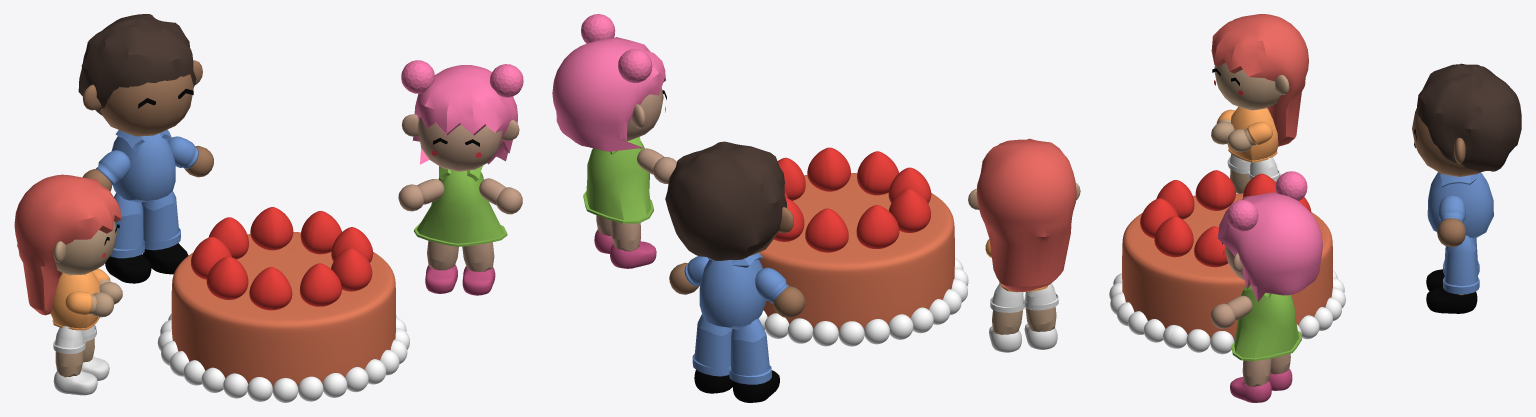
Rendered from cakewithanim1.glb.
3 renders of one model, left to right at view 1: azimuth 30°, elevation 25°; view 2: azimuth 150°, elevation 25°; view 3: azimuth 270°, elevation 25°, orthographic. The views are drawn at different scales.
Visible parts, largest first — view 1: cake, Sphere, Sphere.001, Sphere.004, Cube.023, Cube.056, Cube.055, Cube.051, Cube.032, Cube.062, Cube.044, Cube.035 (+15 smaller); view 2: cake, Sphere, Sphere.001, Sphere.004, Cube.023, Cube.051, Cube.055, Cube.001, Cube.062, Cube.045, Cube.040, Cube.026 (+7 smaller); view 3: cake, Sphere.001, Sphere.004, Sphere, Cube.023, Cube.055, Cube.044, Cube.051, Cube.035, Cube.056, Cube.062, Cube.061 (+8 smaller).
Boxes of the visible parts, box(x1,y1,x2,y2) form: cake: box(157, 207, 409, 402); Sphere: box(14, 174, 121, 315); Sphere.001: box(78, 14, 196, 115); Sphere.004: box(412, 65, 517, 164); Cube.023: box(414, 165, 507, 246); Cube.056: box(100, 74, 193, 136); Cube.055: box(111, 129, 175, 202); Cube.051: box(110, 191, 180, 258); Cube.032: box(417, 117, 502, 171); Cube.062: box(105, 243, 188, 283); Cube.044: box(55, 221, 116, 275); Cube.035: box(50, 271, 99, 330); cake: box(759, 147, 968, 346); Sphere: box(976, 138, 1076, 291); Sphere.001: box(665, 141, 786, 260); Sphere.004: box(552, 37, 665, 151); Cube.023: box(583, 137, 653, 223); Cube.051: box(692, 314, 771, 384); Cube.055: box(699, 252, 766, 329); Cube.001: box(755, 267, 805, 318); Cube.062: box(694, 370, 779, 402); Cube.045: box(990, 283, 1058, 312); Cube.040: box(992, 307, 1056, 334); Cube.026: box(594, 229, 656, 268); cake: box(1109, 170, 1345, 354); Sphere.001: box(1417, 63, 1521, 172); Sphere.004: box(1217, 192, 1322, 301); Sphere: box(1211, 14, 1308, 146); Cube.023: box(1231, 285, 1301, 361); Cube.055: box(1427, 172, 1493, 238); Cube.044: box(1214, 62, 1281, 110); Cube.051: box(1443, 235, 1479, 294); Cube.035: box(1227, 106, 1278, 162); Cube.056: box(1412, 108, 1479, 176); Cube.062: box(1426, 269, 1477, 313); Cube.061: box(1437, 195, 1466, 247).
Size of the model in its own units: 4.42 by 2.09 by 3.39.
